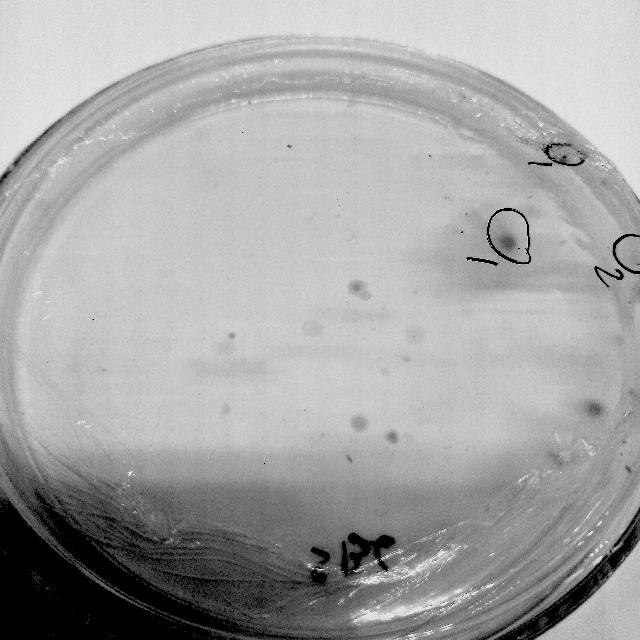colony: (580, 394, 608, 422), (494, 230, 524, 256), (298, 317, 324, 341), (402, 322, 426, 346), (520, 200, 544, 223), (347, 412, 369, 434), (608, 329, 628, 351), (346, 278, 366, 296), (444, 220, 464, 238), (384, 428, 400, 446), (357, 288, 373, 302), (225, 328, 239, 342)
